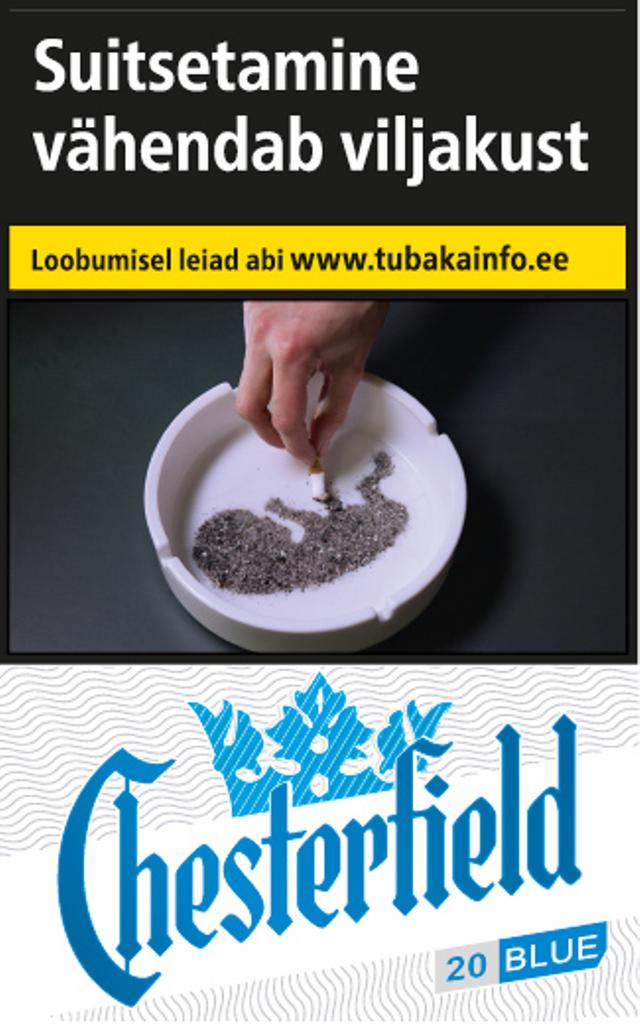chesterfield_blue: (1, 5, 640, 1023)
